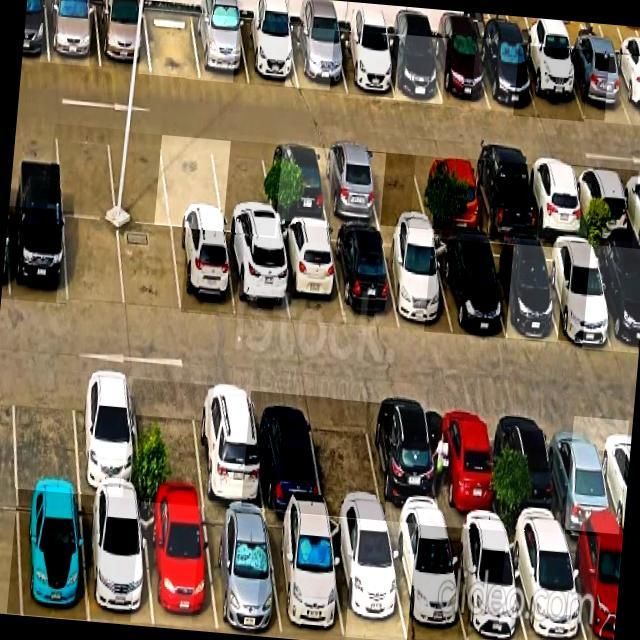empty: (308, 397, 384, 520), (133, 378, 204, 504), (13, 368, 79, 490), (211, 139, 274, 236), (107, 130, 170, 226), (162, 135, 223, 230), (118, 222, 180, 314), (55, 124, 115, 218), (64, 216, 124, 307), (365, 151, 429, 227), (144, 8, 201, 79)
occupied: (202, 507, 281, 635), (364, 401, 445, 525), (266, 513, 344, 640), (140, 501, 217, 629), (328, 517, 406, 640), (427, 404, 501, 530), (82, 494, 152, 624), (387, 525, 466, 640), (447, 526, 526, 640), (545, 414, 618, 537), (17, 491, 86, 620), (193, 384, 264, 509), (251, 390, 322, 512), (506, 531, 585, 640), (496, 408, 564, 533), (73, 371, 140, 497), (539, 242, 613, 345), (381, 232, 452, 333), (433, 239, 505, 338), (483, 242, 557, 338), (331, 228, 399, 326), (278, 225, 343, 325), (565, 533, 622, 640), (171, 228, 236, 317), (225, 234, 289, 322), (9, 206, 66, 304), (468, 159, 536, 240), (591, 245, 640, 353), (263, 144, 328, 223), (417, 155, 481, 233), (316, 147, 380, 225), (563, 48, 630, 122), (519, 45, 584, 119), (524, 162, 586, 239), (572, 165, 632, 242), (477, 38, 537, 114), (431, 35, 489, 109), (382, 35, 442, 104), (239, 18, 298, 88), (192, 13, 249, 84), (335, 31, 394, 98), (95, 4, 150, 71), (290, 26, 345, 91), (46, 0, 99, 67), (610, 54, 640, 124)
